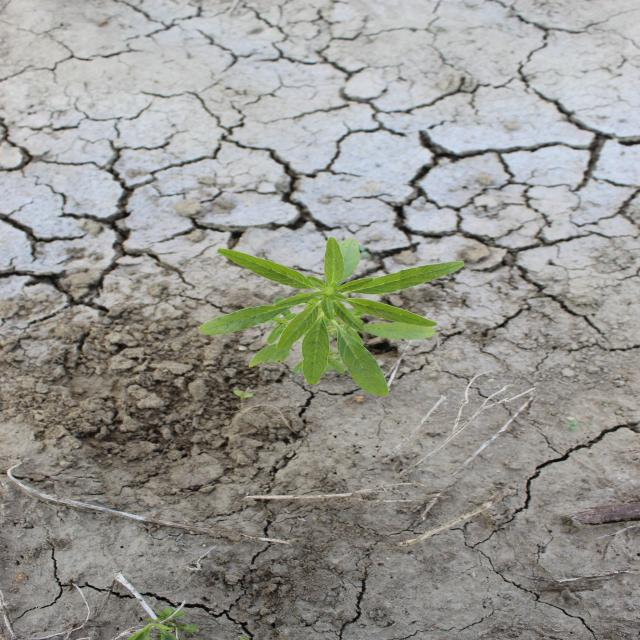Waterhemp: (193, 235, 467, 398)
